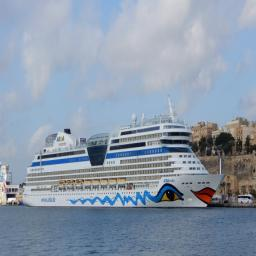cruises: (21, 94, 227, 214)
